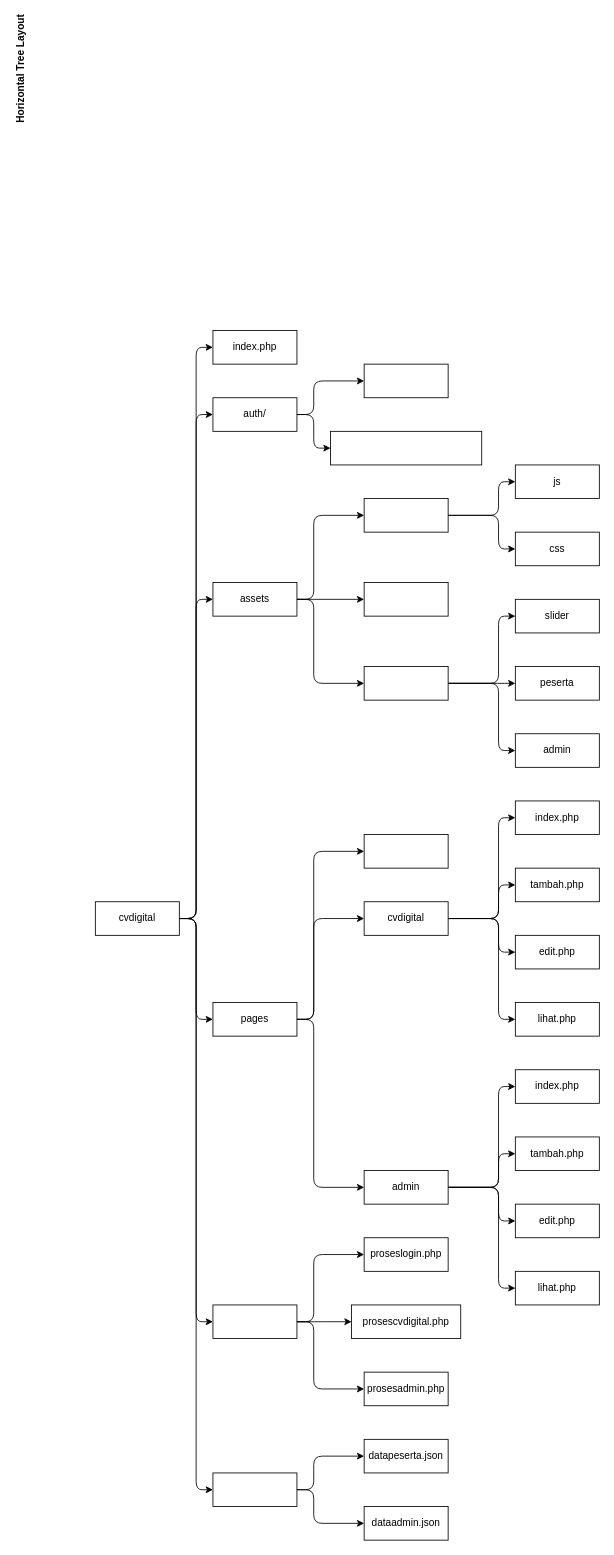
This 614x1555 diagram has some shape labels left out. The centre of each missing label's shape, as x and y in pixels:
"dasboard.php" goes at point (405, 851).
"data" goes at point (254, 1489).
"dist" goes at point (405, 515).
"image" goes at point (405, 683).
"loginuser.php" goes at point (405, 380).
"plugins" goes at point (405, 599).
"proses" goes at point (254, 1321).
"registrasipeserta.php" goes at point (406, 447).
